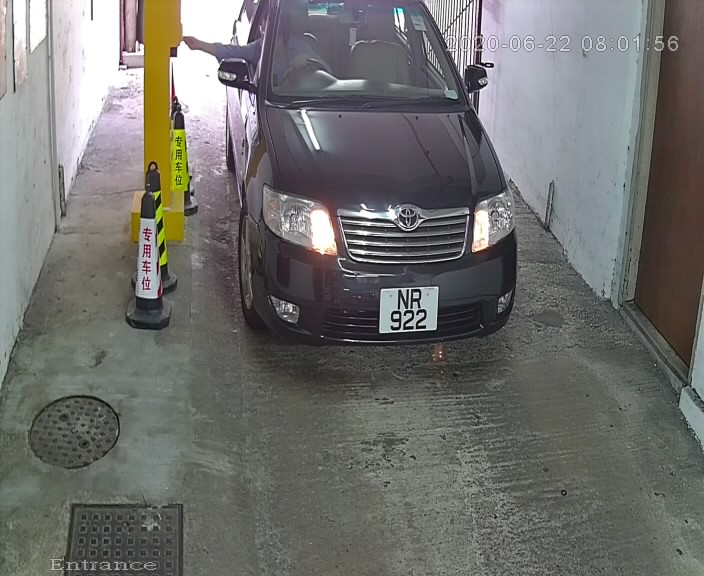privatecar: (193, 1, 552, 400)
